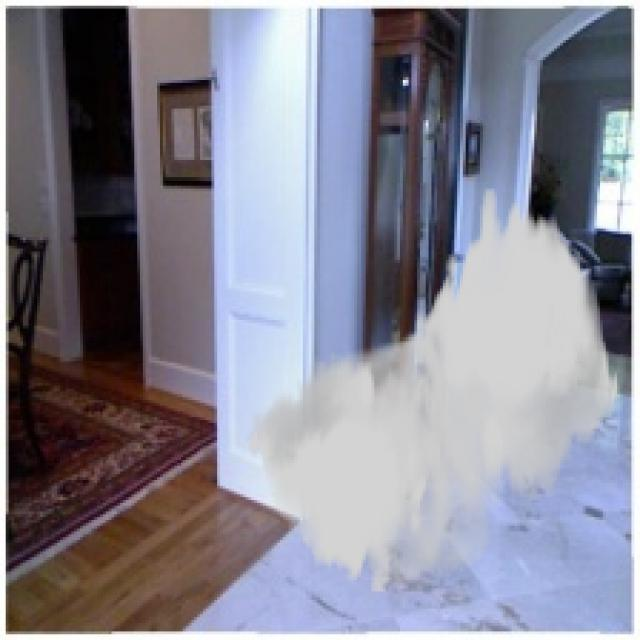smoke: (246, 189, 620, 594)
